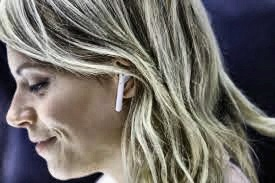earphone: (113, 59, 139, 112)
